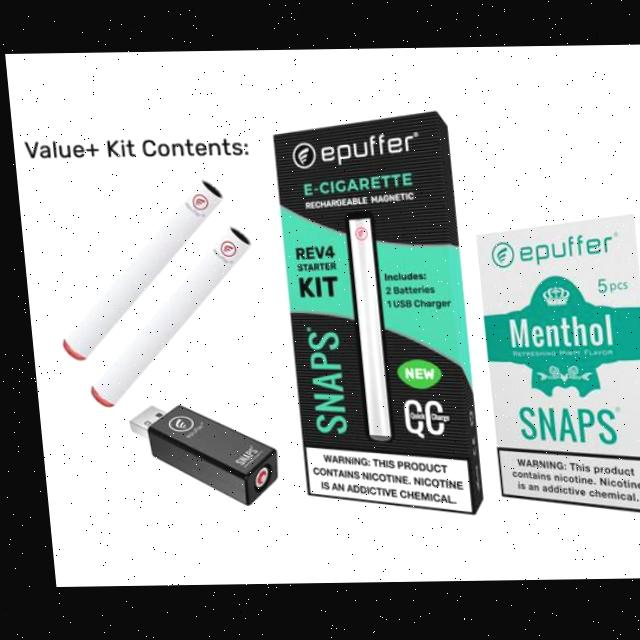cigarette: (70, 225, 258, 408), (43, 179, 232, 361), (343, 216, 383, 444)
